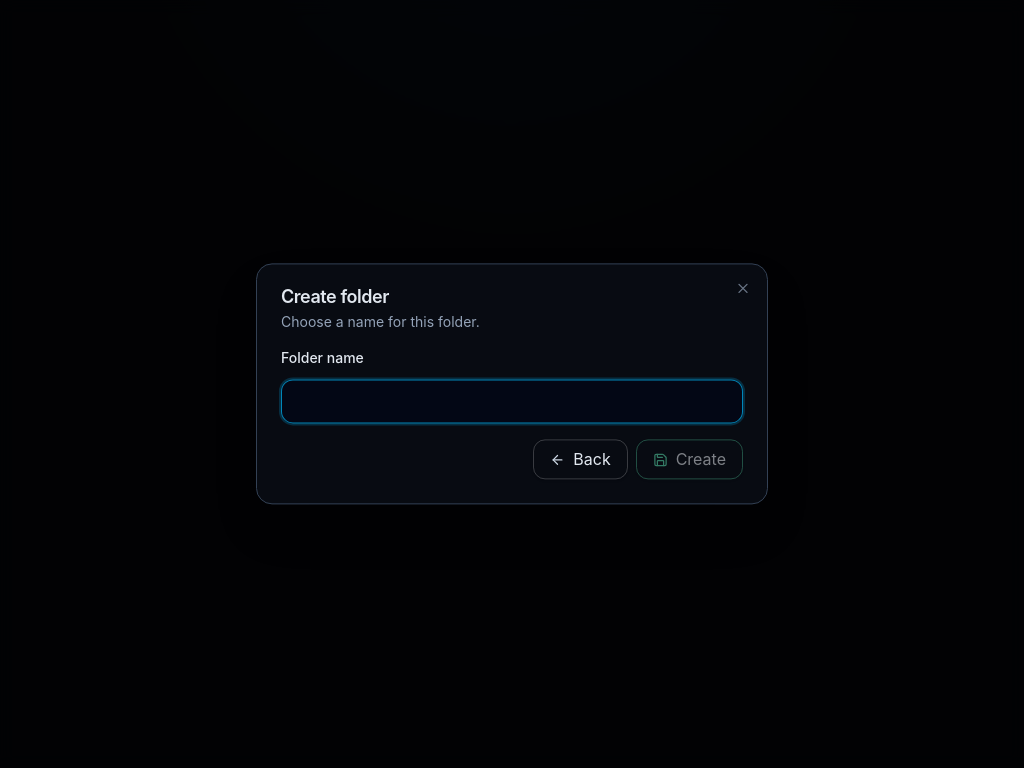
it: application form Dialogs › keeps a naming Dialog open for blank and server-error states
Press Enter
Type "Existing" into the field labelled "Folder name" at [512, 402], box [281,380,743,424]
Then press Enter
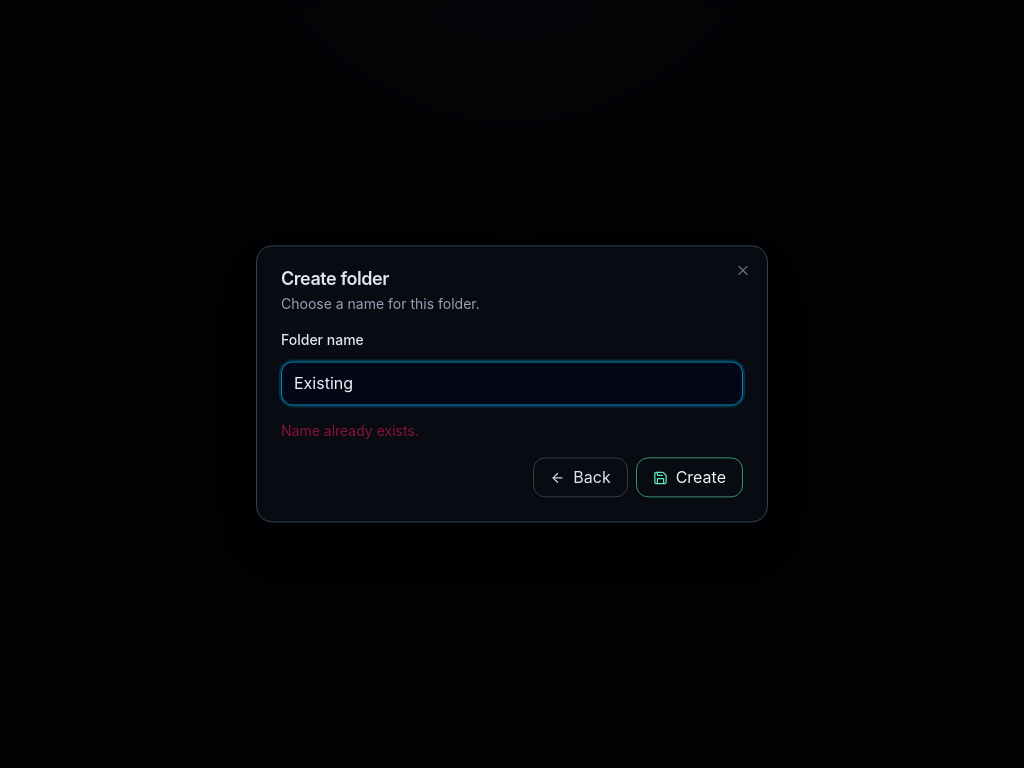
Expected: the dialog "Create folder" is shown, [256,245,768,523]
Expected: the message reads "Name already exists.", [281,423,419,440]
